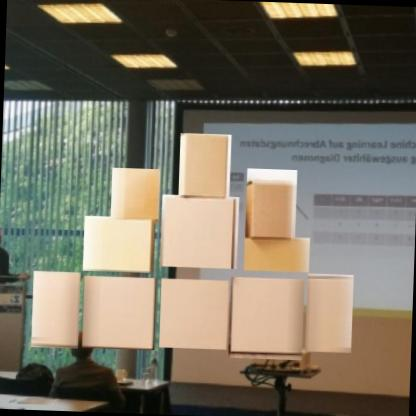box: (227, 276, 305, 362), (158, 193, 240, 271), (80, 275, 158, 352), (158, 278, 230, 352), (80, 215, 156, 275), (304, 273, 354, 355), (30, 270, 81, 350), (244, 167, 298, 238), (177, 133, 232, 201), (110, 167, 160, 224), (242, 235, 311, 274)
